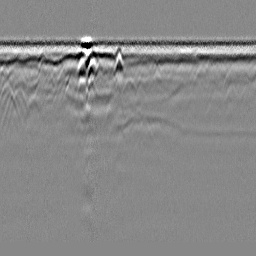cavity: (121, 75, 138, 97)
